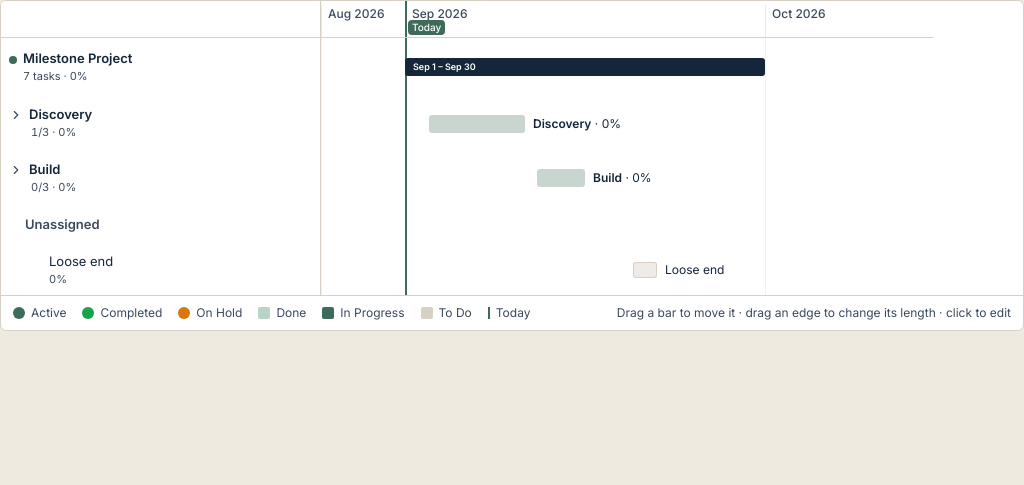
it: TimelineGantt milestones › an expanded milestone's undated tasks get their own indented tray
The image size is (1024, 485).
Click the button "Build" at (45, 169), box 9,161 -> 300,179
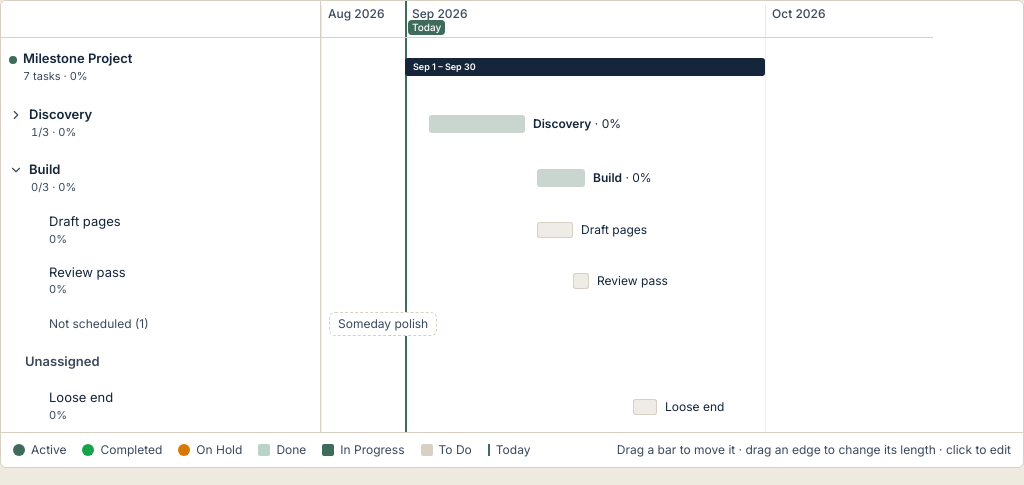
Result: the button "Someday polish" is shown at 329,312 -> 437,336
Result: the element showing "Not scheduled (1)" is shown at 1,306 -> 321,342
